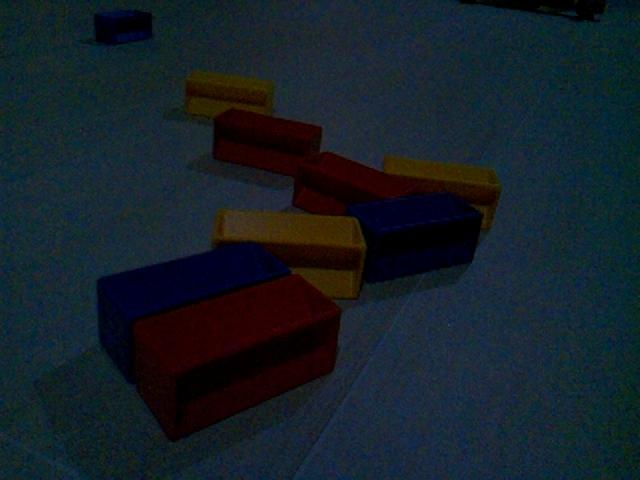blue: (95, 239, 293, 384), (348, 189, 484, 284), (92, 8, 155, 46)
red: (130, 272, 343, 441), (291, 149, 420, 216), (211, 106, 323, 178)
yellow: (211, 206, 368, 301), (382, 152, 503, 231), (182, 68, 276, 121)
